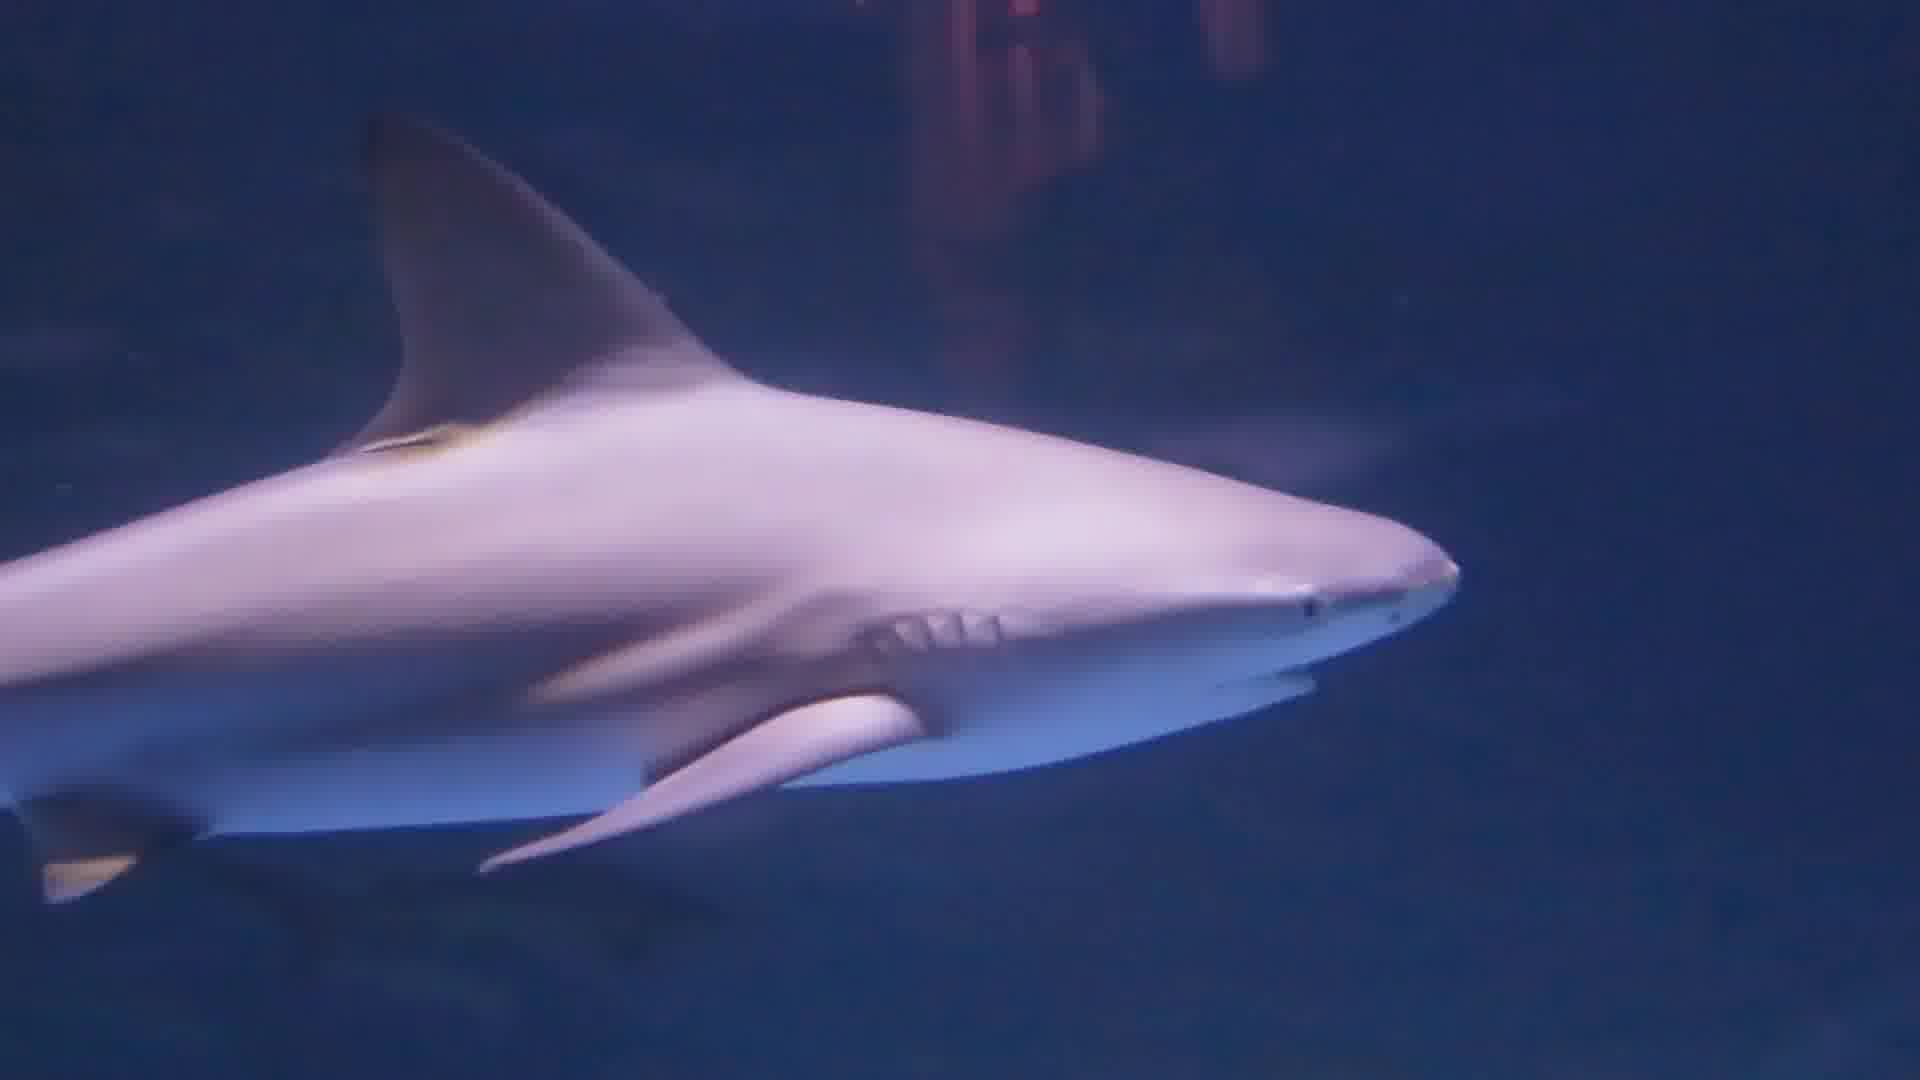Carcharhinus leucas: (1, 32, 1542, 1005)
